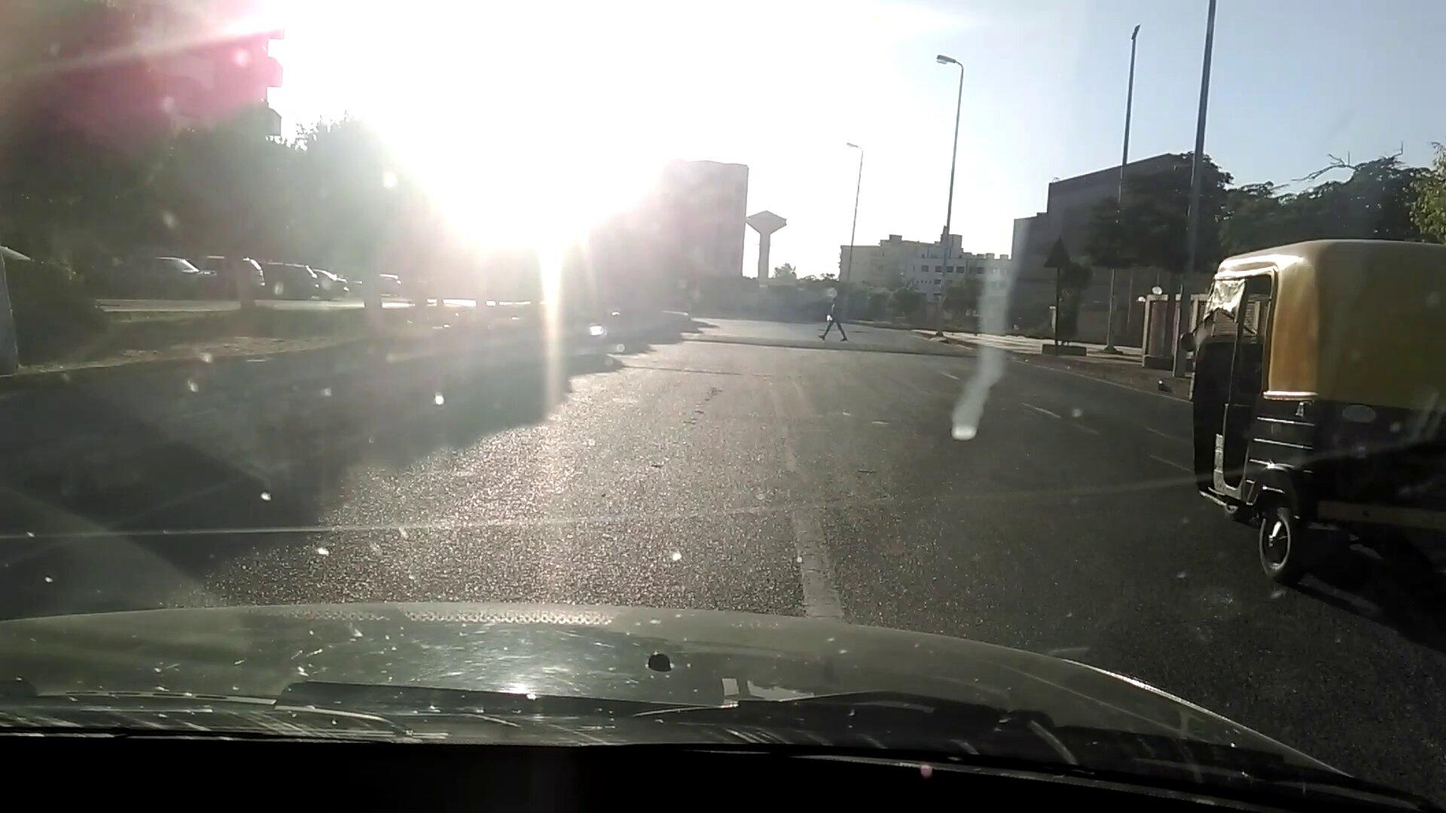Bump: (678, 329, 992, 361)
